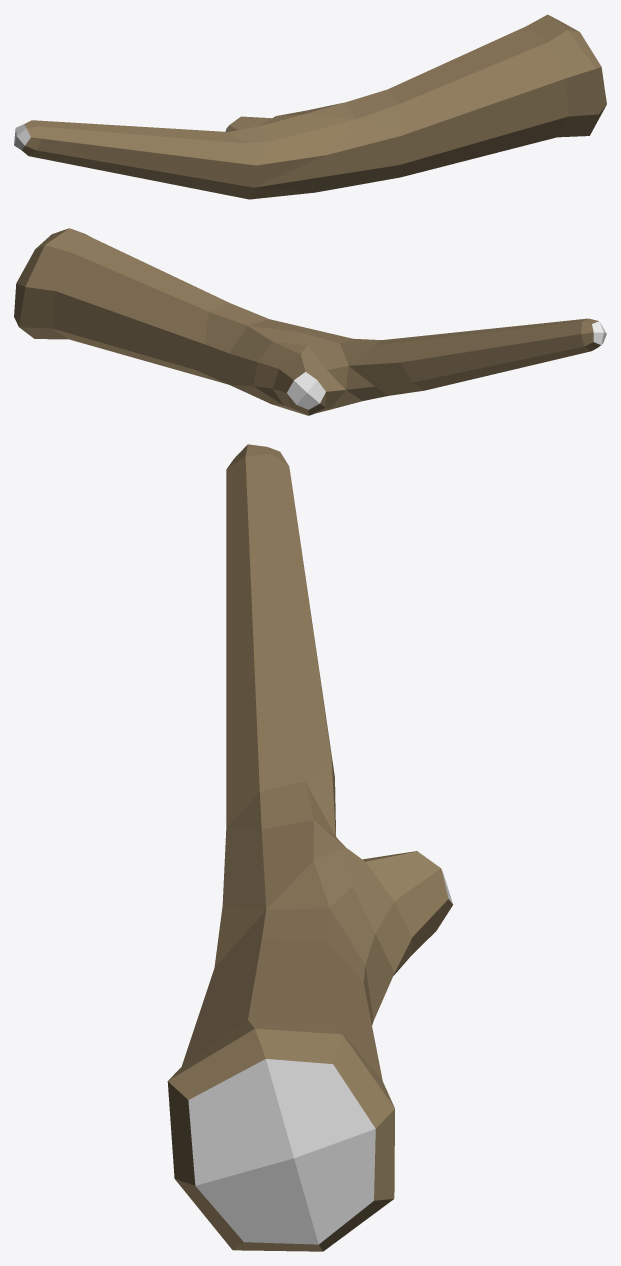
The model's file is Log09.fbx.
The picture shows the model from 3 angles, top to bottom: view 1: azimuth 30°, elevation 25°; view 2: azimuth 150°, elevation 25°; view 3: azimuth 270°, elevation 25°; orthographic projection. The views are drawn at different scales.
Visible parts, largest first — view 1: Log09; view 2: Log09; view 3: Log09.
Boxes of the visible parts, x1,y1,x2,y2 form: Log09: (14,14,606,199); Log09: (14,228,606,415); Log09: (167,444,452,1251).
Bounding box in the file's own units: 148 × 34.59 × 32.24.
